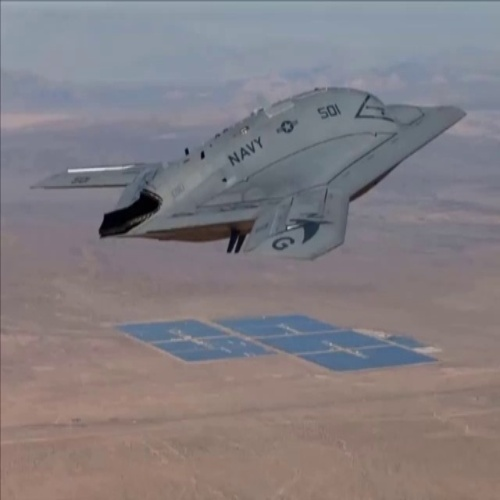uav: (31, 82, 468, 263)
